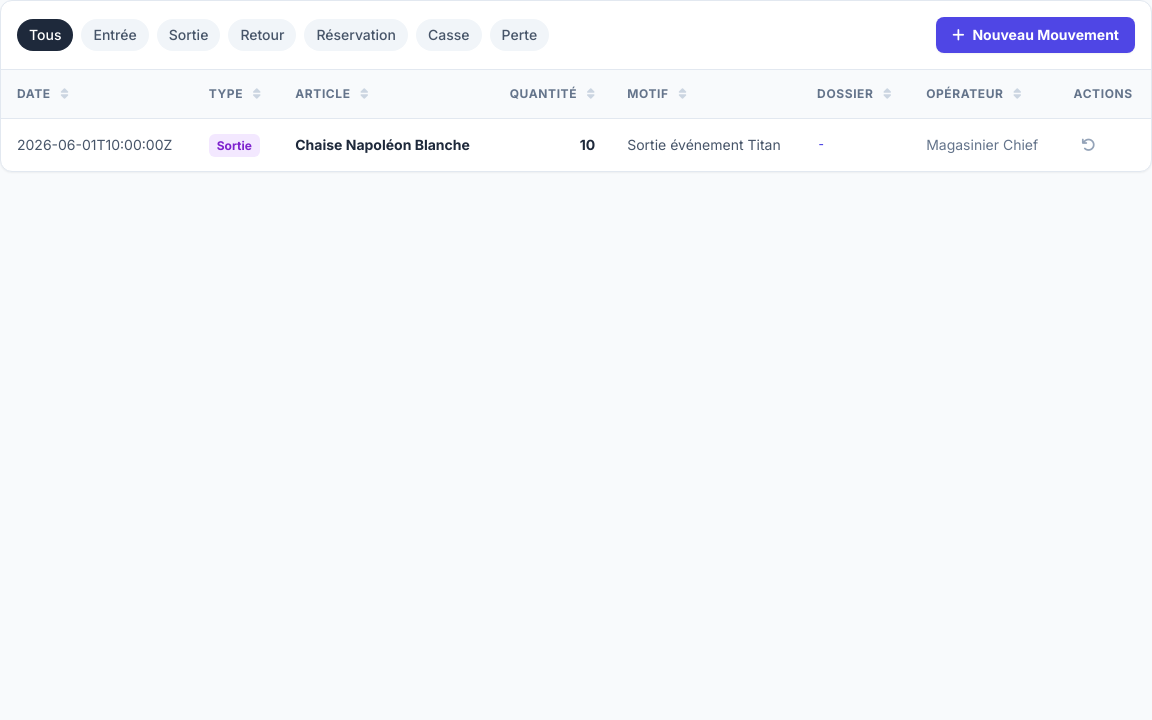
StockMovementsPage › permet d'enregistrer un nouveau mouvement de stock via la modale
This screenshot has width=1152, height=720.
Expected: the text "Chaise Napoléon Blanche" is shown, [279,118,491,171]
Step 1. Click the button "Nouveau Mouvement" → (1036, 35), box [936,17,1135,53]
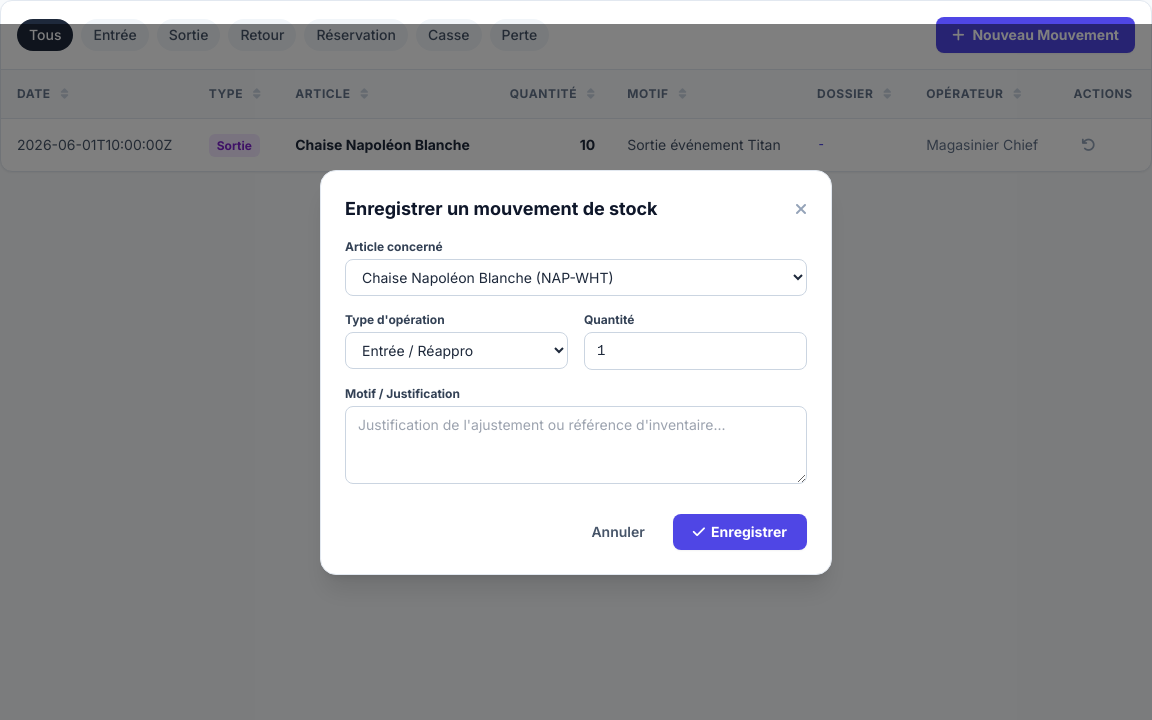
Expected: the heading "Enregistrer un mouvement de stock" is shown, [345,194,658,222]
Step 2. Replace the text in the number field with "5" → (696, 350), box [584,332,807,370]
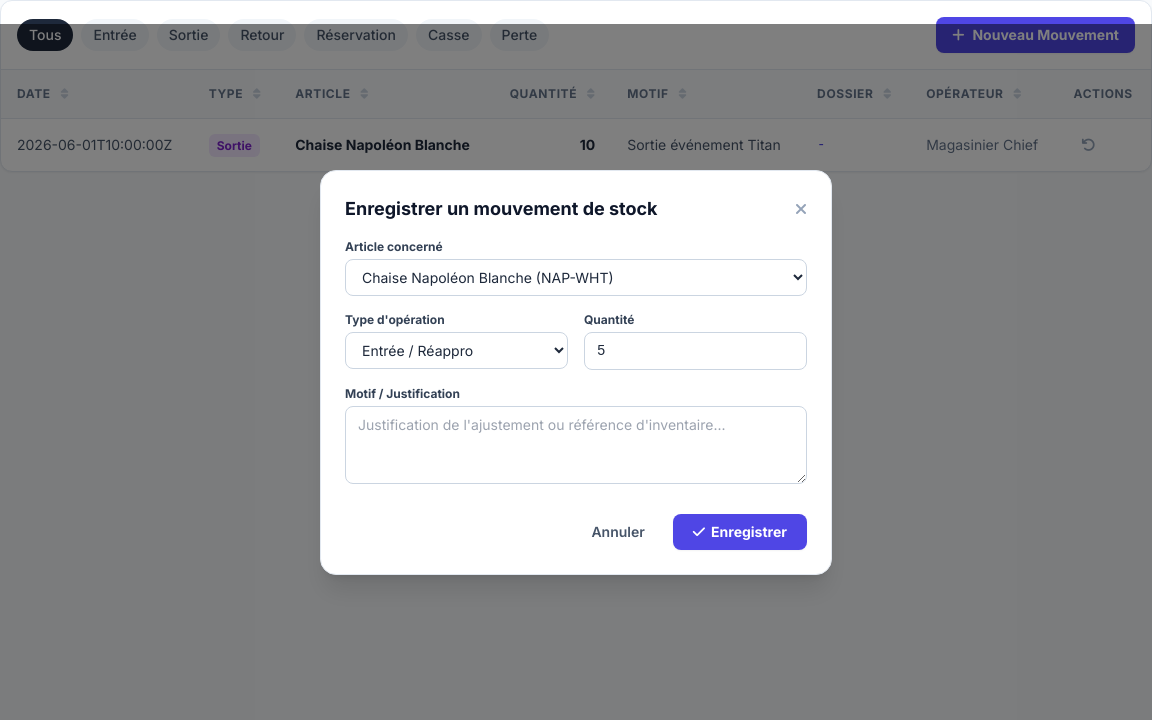
Step 3. Type "Réapprovisionnement test" into the text box with placeholder "Justification de l'ajustement ou référence d'inventaire..." → (576, 444), box [345,406,807,484]
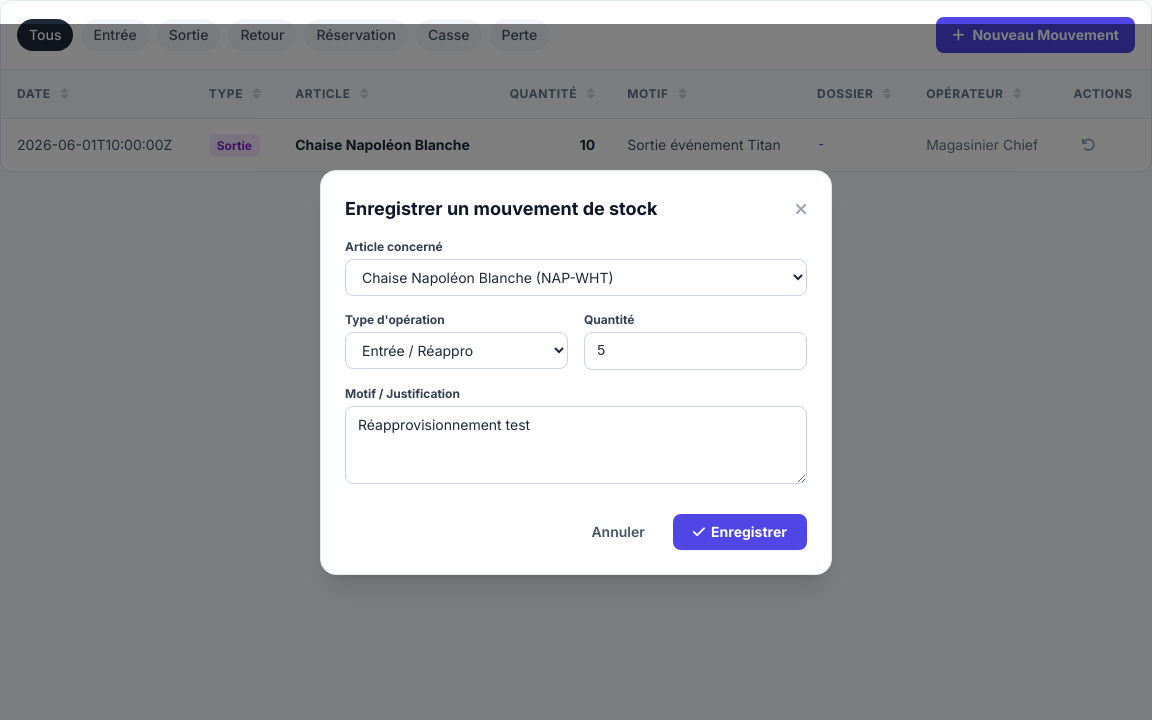
Step 4. Click the button "Enregistrer" → (740, 532), box [673,514,807,550]
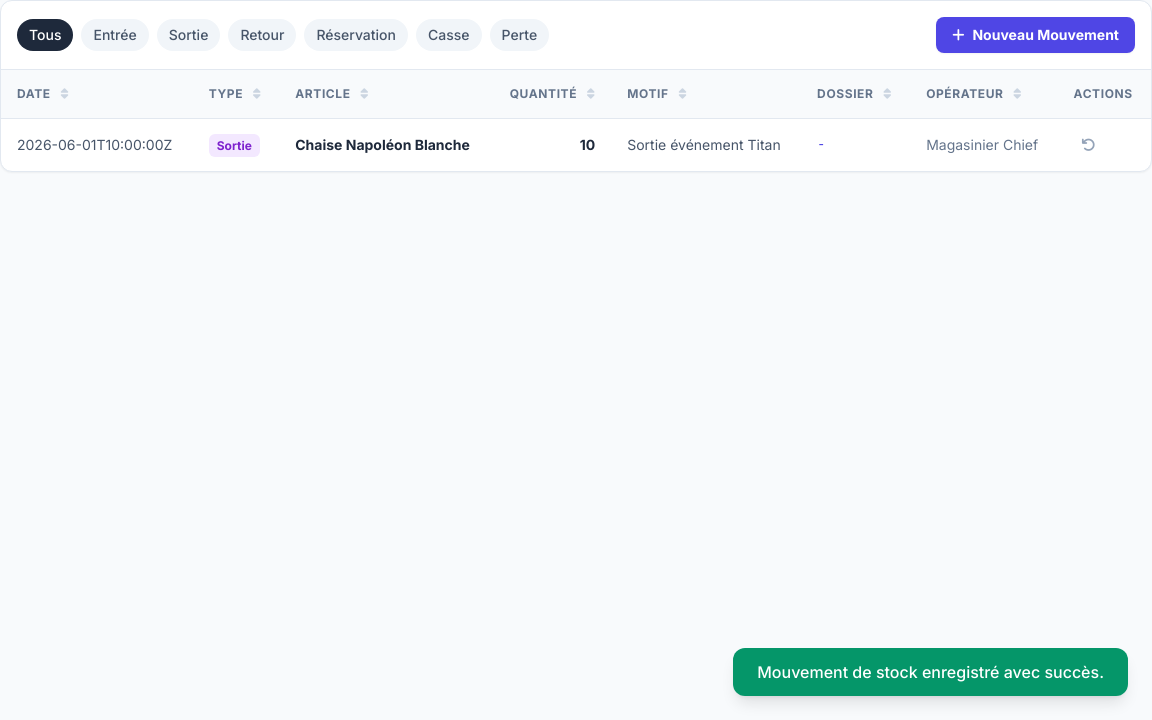
Expected: the text "Mouvement de stock enregistré avec succès." is shown, [733,648,1128,696]
